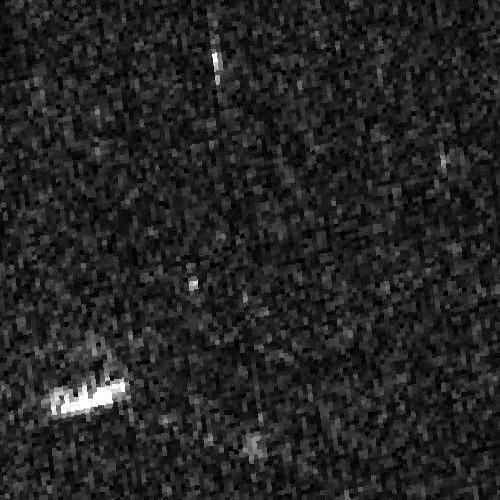ship: (50, 375, 130, 419)
